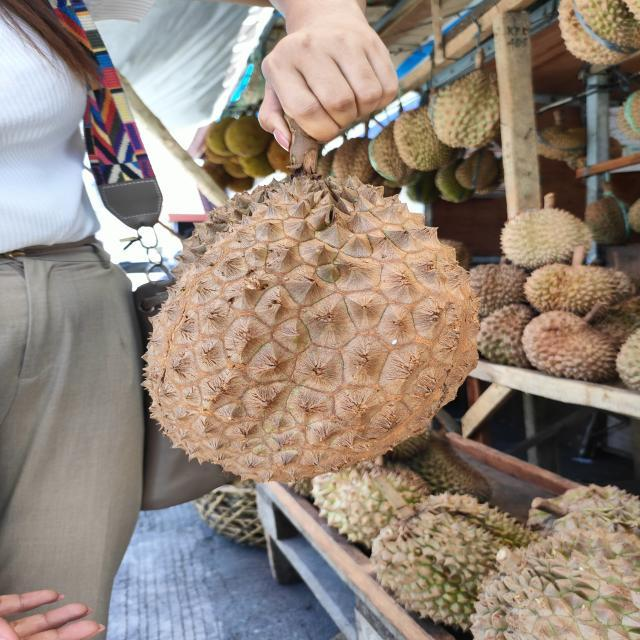mature: (140, 170, 487, 486)
